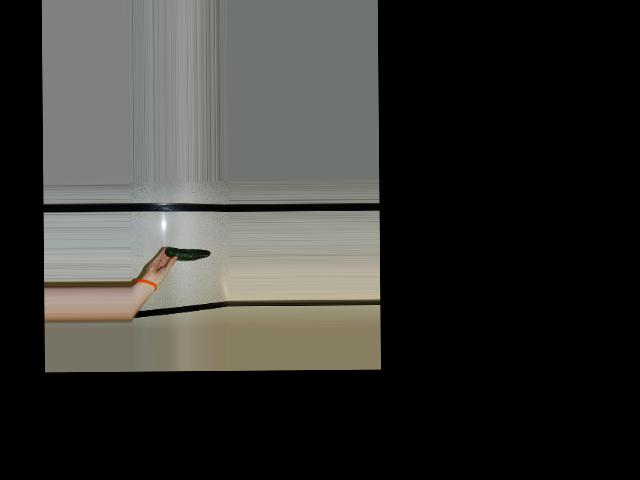cucumber: (164, 246, 211, 260)
